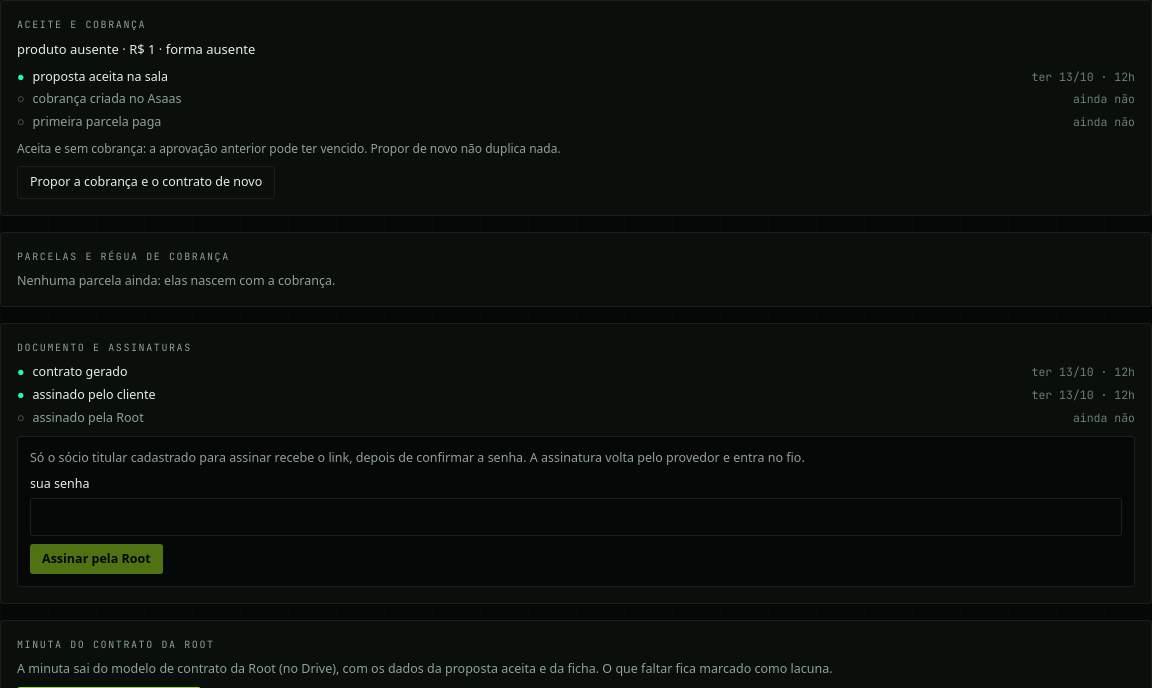
Test: botões desligados durante o envio (C-18) › a assinatura da Root no contrato vivo não manda duas vezes com dois cliques
Type "segredo" into the password field labelled "sua senha" at (576, 517), box x1=30 y1=498 x2=1122 y2=536
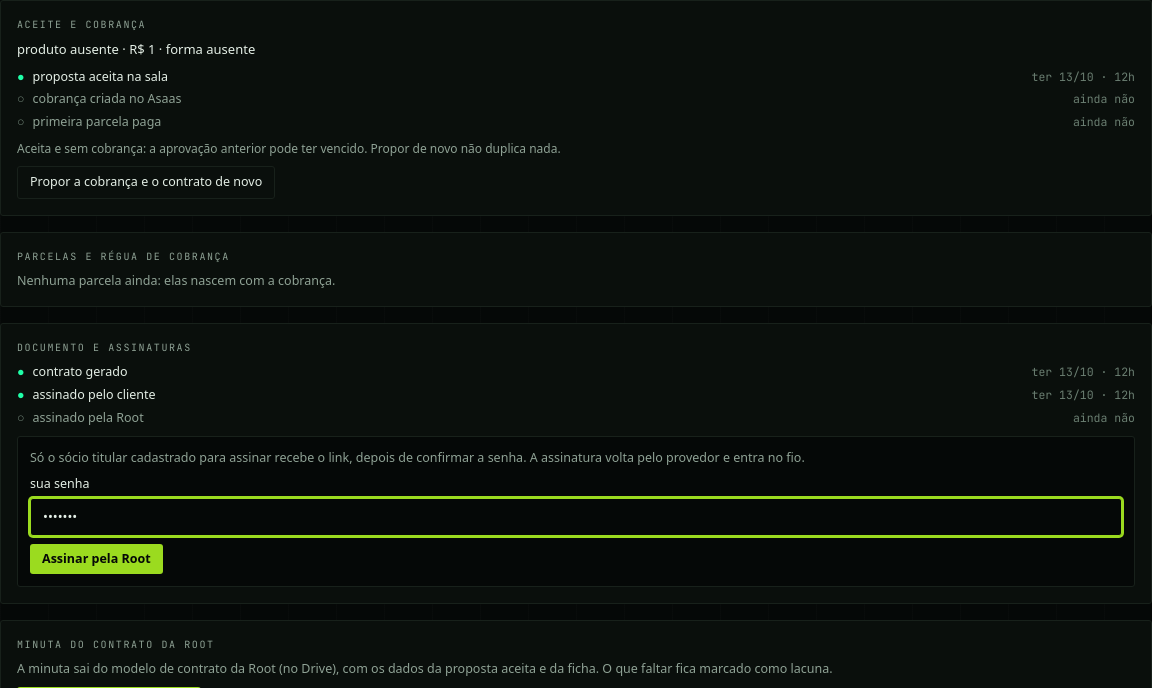
Click the button "Assinar pela Root" at (96, 559), box x1=30 y1=544 x2=163 y2=574
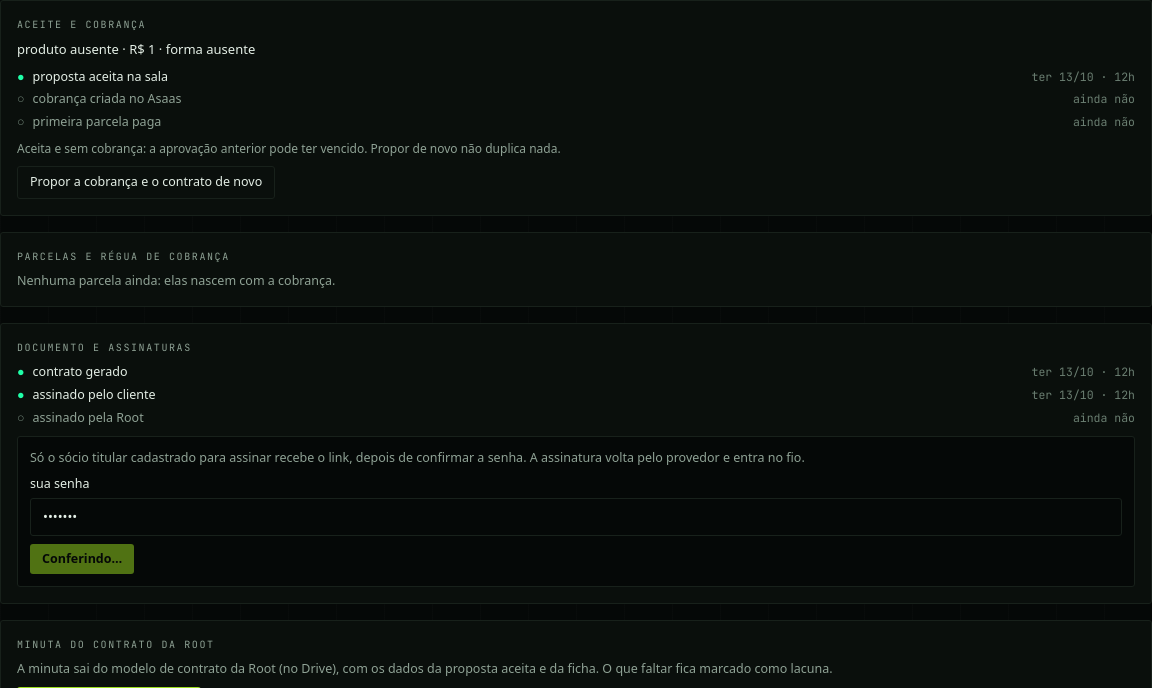
Now the button "Conferindo…" is disabled
Click the button "Conferindo…" at (82, 559), box x1=30 y1=544 x2=134 y2=574
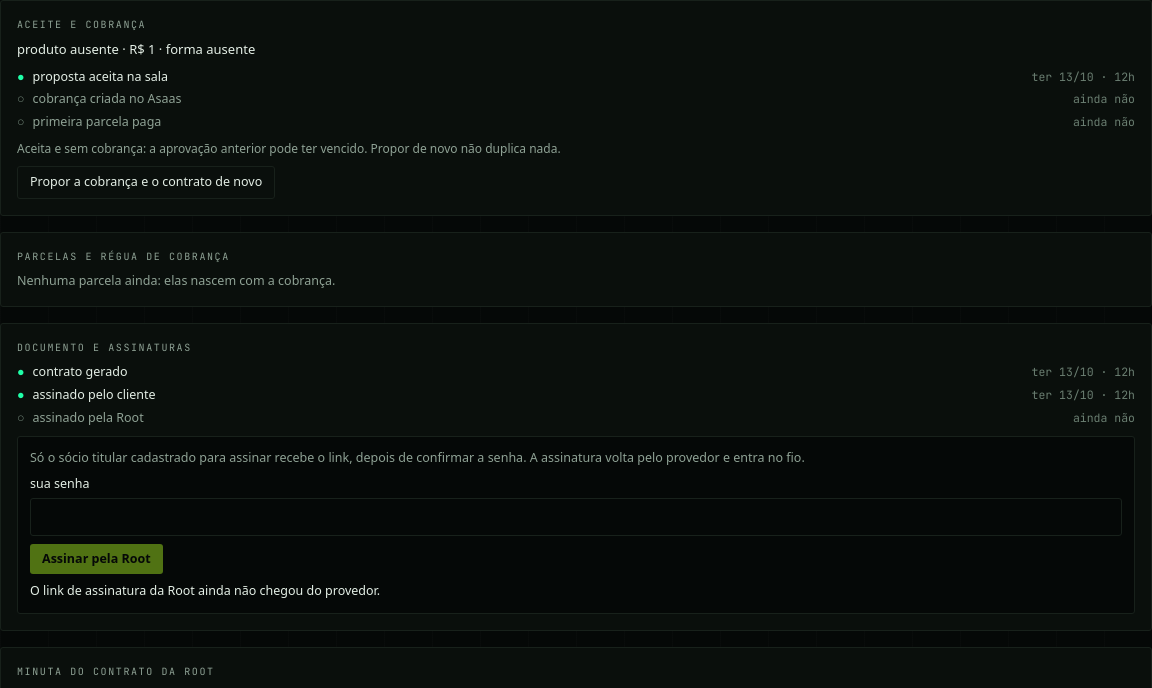
Now the text "O link de assinatura da Root ainda não chegou do provedor." is shown, box x1=30 y1=582 x2=380 y2=599
